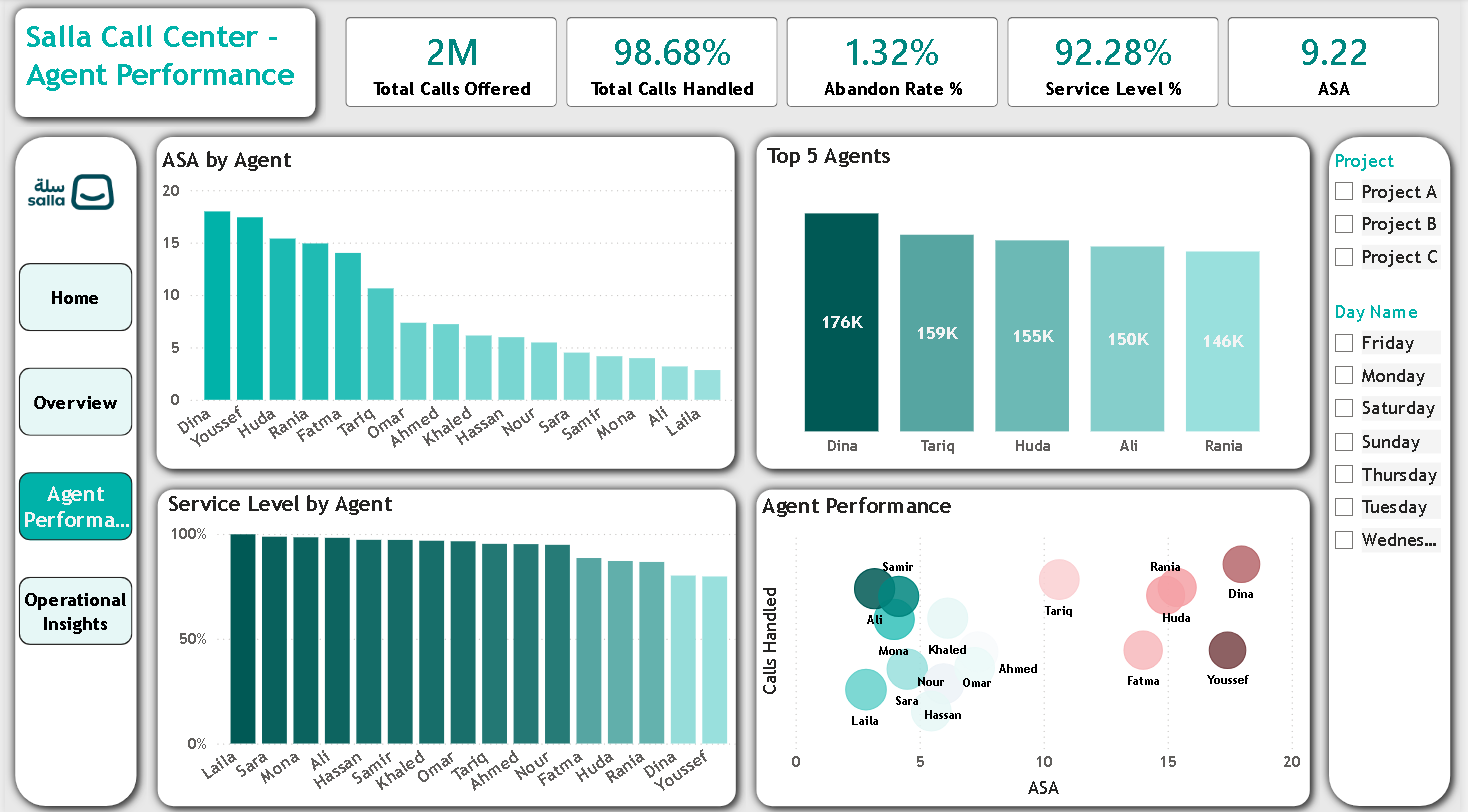

The dashboard page shown, as its layout file describes it:
{"tool":"powerbi","page":{"name":"Agent Performance","canvas":[1280,720],"ordinal":2},"visuals":[{"type":"shape","box":[0,0,282,113.8],"z":0,"group":"g1"},{"type":"shape","box":[0,113.8,124.7,606.5],"z":0},{"type":"group","id":"g1","title":"Group 1","box":[0,0,282,113.8],"z":1000},{"type":"textbox","box":[13.7,12.1,268.4,87.2],"z":1000,"group":"g1"},{"type":"shape","box":[124.7,113.8,526.6,309.9],"z":2000},{"type":"shape","box":[652.5,423.7,504.8,296.6],"z":3000},{"type":"shape","box":[125.9,423.7,526.6,296.6],"z":4000},{"type":"shape","box":[652.5,113.8,504.8,309.9],"z":5000},{"type":"columnChart","title":"Top 5 Agents","fields":{"Y":["Dax_measure.Total Calls Offered"],"Category":["Salla_data.Agent Name"]},"box":[665.8,127.1,479.4,286.9],"z":6000},{"type":"image","box":[12.1,127.1,92,85.9],"z":7000},{"type":"clusteredColumnChart","title":"Service Level by Agent","fields":{"Y":["Dax_measure.Service Level %"],"Category":["Salla_data.Agent Name"]},"box":[138.6,433.6,513.2,286.8],"z":8000},{"type":"scatterChart","title":"Agent Performance","fields":{"X":["Dax_measure.ASA"],"Size":["Dax_measure.Service Level %"],"Y":["Sum(Salla_data.Calls Handled)"],"Series":["Salla_data.Agent Name"]},"box":[660.9,435.8,484.2,274.8],"z":9000},{"type":"shape","box":[1155.3,113.5,124.7,606.5],"z":10000},{"type":"clusteredColumnChart","title":"ASA by Agent","fields":{"Category":["Salla_data.Agent Name"],"Y":["Dax_measure.ASA"]},"box":[133.1,130.4,513.2,286.8],"z":11000},{"type":"slicer","fields":{"Values":["Salla_data.Project"]},"box":[1157.2,127.1,111.4,122.3],"z":12000},{"type":"slicer","fields":{"Values":["Salla_data.Day Name"]},"box":[1157.2,260.3,111.4,242.1],"z":13000},{"type":"cardVisual","fields":{"Data":["Dax_measure.Total Calls Offered","Dax_measure.Total Calls Handled","Dax_measure.Abandon Rate %","Dax_measure.Service Level %","Dax_measure.ASA"]},"box":[282,0,997.4,113.8],"z":14000},{"type":"pageNavigator","box":[12.1,233.6,100.5,338.9],"z":15000}]}

Visuals, with their boxes in screenshot pixels (x1, y1, x2, y2), scaled from the page's 1280x720 canvas onto the 1468x812 screenshot:
shape: pyautogui.locateOnScreen(0, 0, 323, 128)
shape: pyautogui.locateOnScreen(0, 128, 143, 811)
"Group 1" group: pyautogui.locateOnScreen(0, 0, 323, 128)
textbox: pyautogui.locateOnScreen(16, 14, 324, 112)
shape: pyautogui.locateOnScreen(143, 128, 747, 478)
shape: pyautogui.locateOnScreen(748, 478, 1327, 811)
shape: pyautogui.locateOnScreen(144, 478, 748, 811)
shape: pyautogui.locateOnScreen(748, 128, 1327, 478)
"Top 5 Agents" columnChart: pyautogui.locateOnScreen(764, 143, 1313, 467)
image: pyautogui.locateOnScreen(14, 143, 119, 240)
"Service Level by Agent" clusteredColumnChart: pyautogui.locateOnScreen(159, 489, 748, 811)
"Agent Performance" scatterChart: pyautogui.locateOnScreen(758, 491, 1313, 801)
shape: pyautogui.locateOnScreen(1325, 128, 1467, 811)
"ASA by Agent" clusteredColumnChart: pyautogui.locateOnScreen(153, 147, 741, 471)
slicer - Salla_data.Project: pyautogui.locateOnScreen(1327, 143, 1455, 281)
slicer - Salla_data.Day Name: pyautogui.locateOnScreen(1327, 294, 1455, 567)
cardVisual - Dax_measure.Total Calls Offered x Dax_measure.Total Calls Handled: pyautogui.locateOnScreen(323, 0, 1467, 128)
pageNavigator: pyautogui.locateOnScreen(14, 263, 129, 646)
